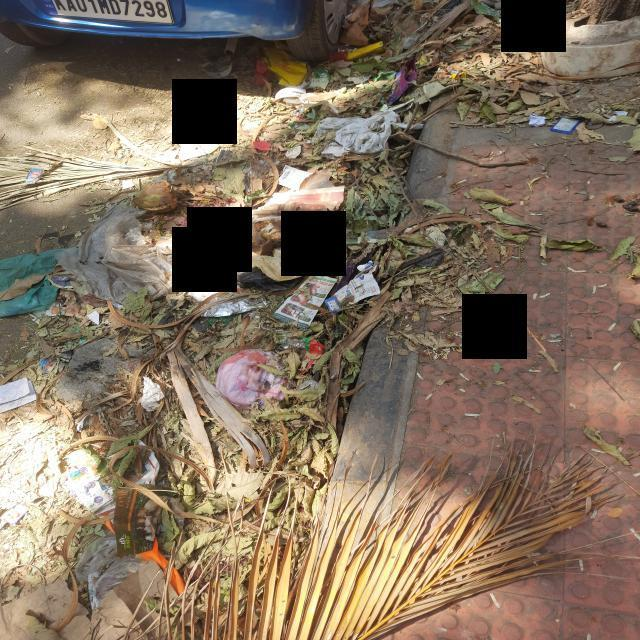Garbage: (0, 0, 640, 640)
Plastic: (550, 118, 580, 134), (275, 86, 307, 100)
Plastic_Bag: (57, 206, 232, 302), (212, 215, 347, 291), (75, 535, 145, 609), (215, 349, 286, 409), (315, 111, 398, 158), (278, 165, 312, 191), (403, 32, 422, 49), (282, 339, 305, 349), (375, 134, 377, 135)
Plastic_Straw: (275, 330, 290, 332), (251, 326, 261, 329), (263, 328, 270, 330)
Plastic_wraper: (387, 58, 417, 105), (202, 298, 267, 318), (0, 505, 28, 529), (470, 0, 500, 18), (308, 69, 330, 89), (305, 339, 325, 355), (302, 359, 317, 375), (498, 11, 518, 22), (303, 338, 310, 343), (305, 356, 308, 360)
Tetrapack: (345, 41, 385, 60)
